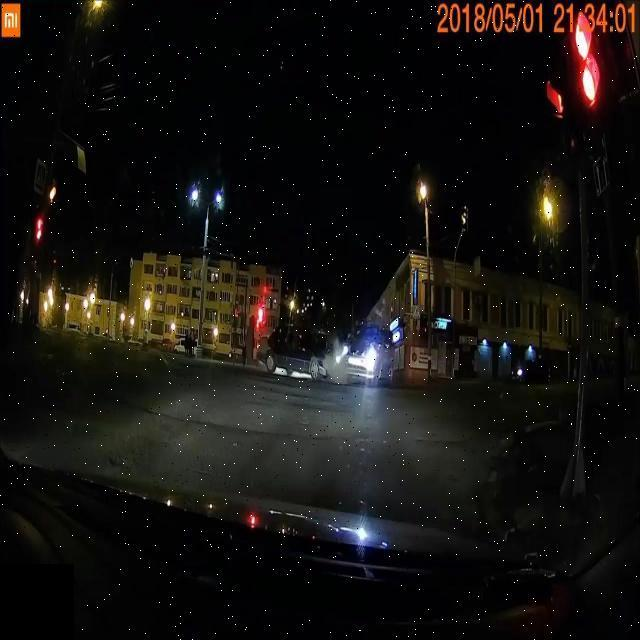moderate: (254, 316, 398, 392)
